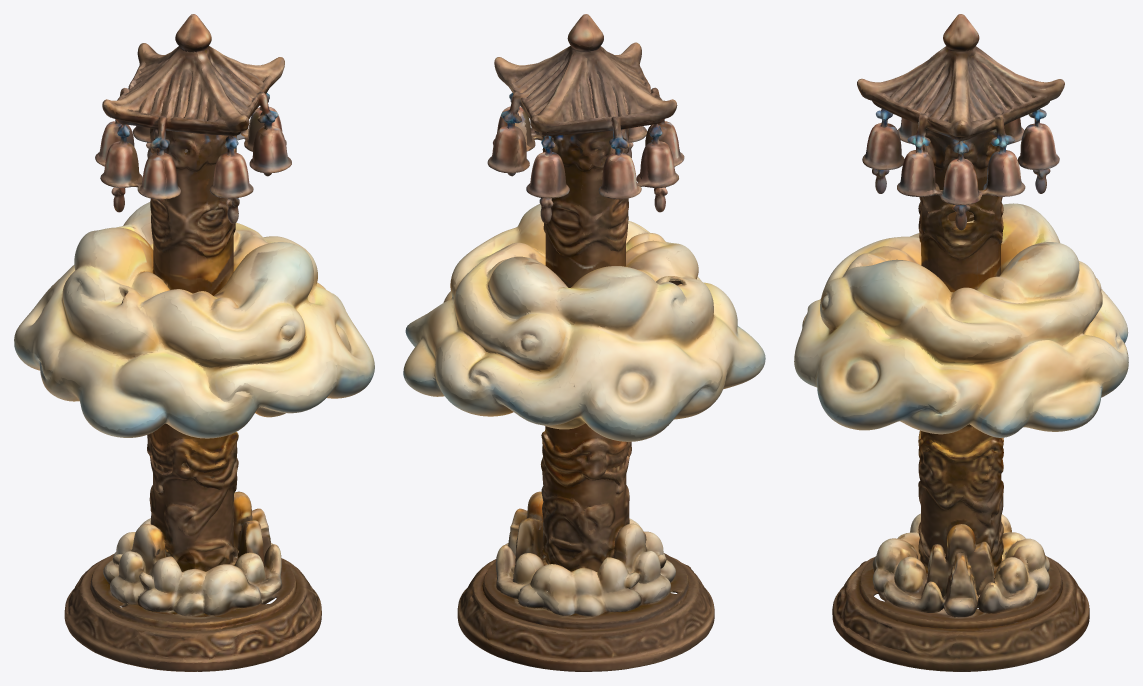
The model's file is lantern-cloud.glb.
The picture shows the model from 3 angles, left to right: view 1: azimuth 30°, elevation 25°; view 2: azimuth 150°, elevation 25°; view 3: azimuth 270°, elevation 25°; orthographic projection.
Visible parts, largest first — view 1: geometry_0; view 2: geometry_0; view 3: geometry_0.
Part boxes in pixels (x1,y1,x2,y2): geometry_0: (14, 14, 374, 671); geometry_0: (403, 14, 765, 671); geometry_0: (794, 14, 1128, 671).
Bounding box in the file's own units: 0.2705 × 0.52 × 0.2612.
1 material, 1 textured.
